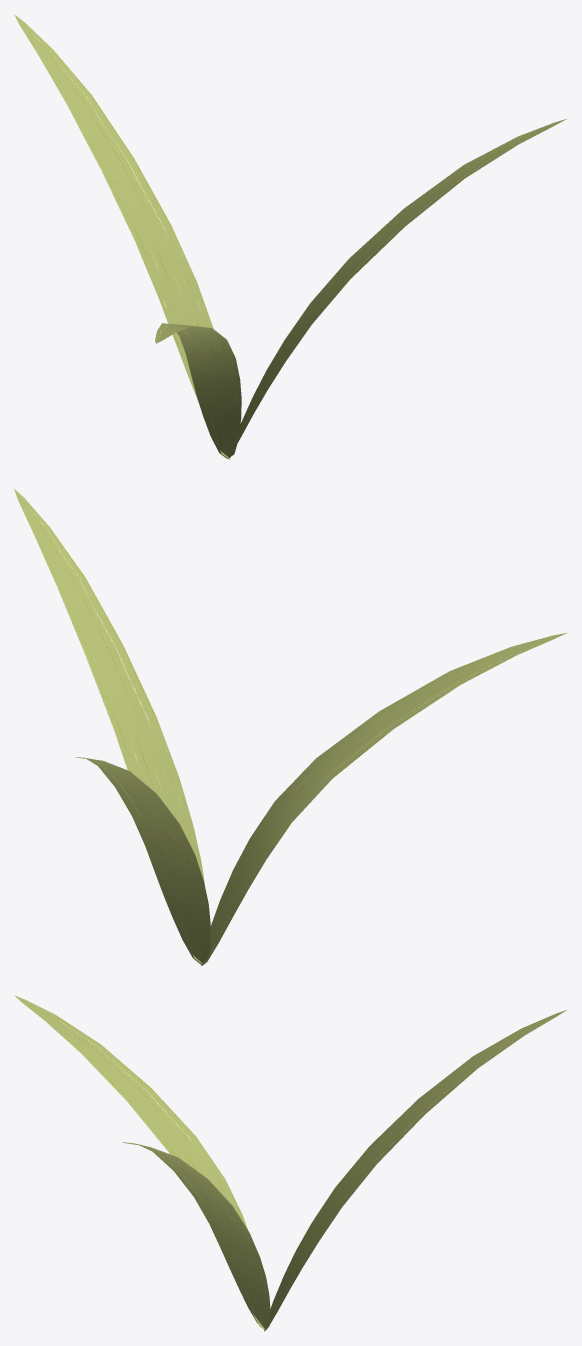
The model's file is petites herbes.fbx.
3 renders of one model, top to bottom at view 1: azimuth 30°, elevation 25°; view 2: azimuth 150°, elevation 25°; view 3: azimuth 270°, elevation 25°, orthographic. The views are drawn at different scales.
Visible parts, largest first — view 1: petites herbes; view 2: petites herbes; view 3: petites herbes.
Part boxes in pixels (<box>): petites herbes: <box>14,14,566,459</box>; petites herbes: <box>14,489,567,966</box>; petites herbes: <box>14,995,566,1331</box>.
Bounding box in the file's own units: 6.08 × 4.14 × 6.86.
Materials: 1 (1 with a texture image).
